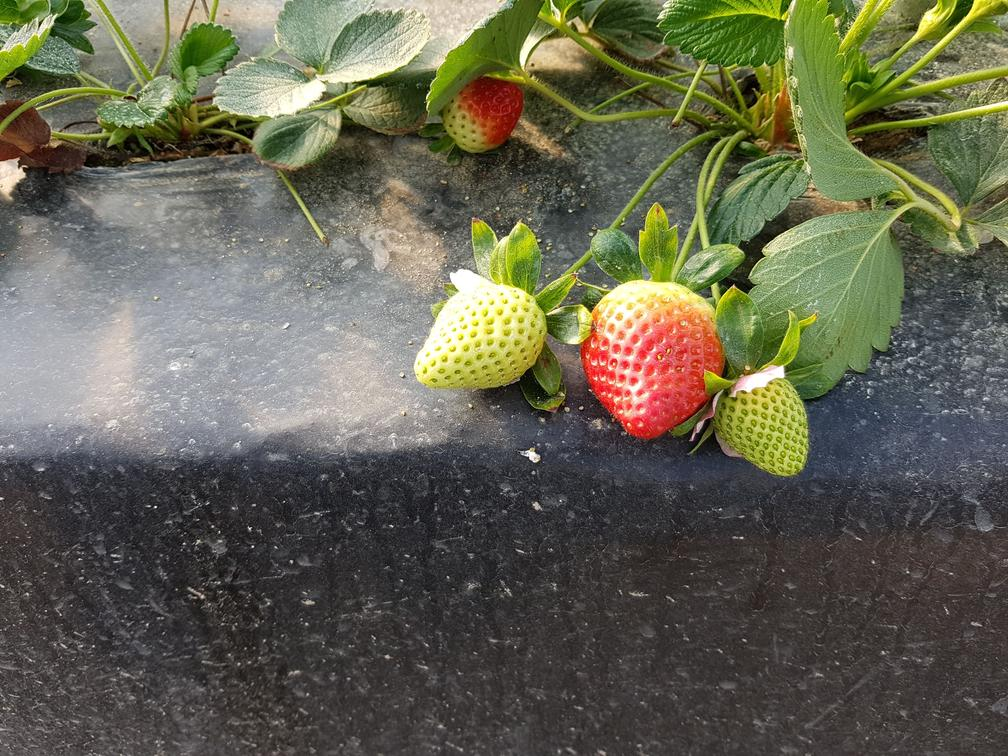Ripe: (579, 279, 723, 441), (452, 79, 528, 152)
Unripe: (403, 280, 557, 394), (724, 379, 818, 477)
